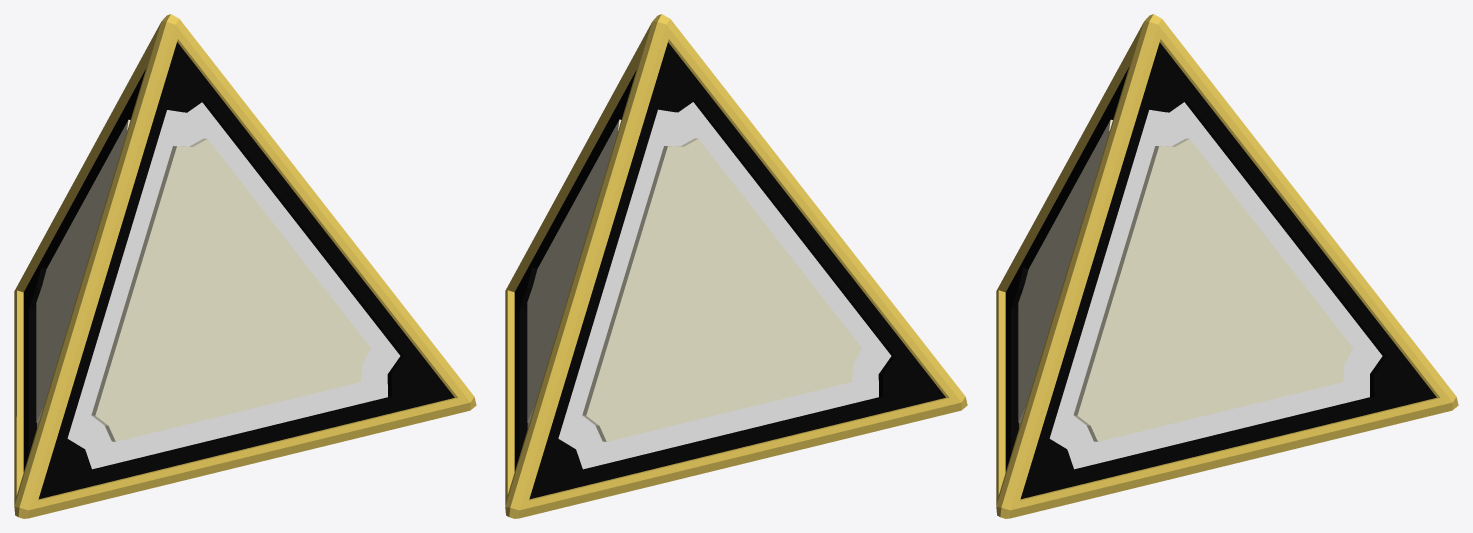
Rendered from D4_DefaultModel.fbx.
The picture shows the model from 3 angles, left to right: view 1: azimuth 30°, elevation 25°; view 2: azimuth 150°, elevation 25°; view 3: azimuth 270°, elevation 25°; orthographic projection.
Visible parts, largest first — view 1: Die4Sided.001; view 2: Die4Sided.001; view 3: Die4Sided.001.
Part boxes in pixels (x1,y1,x2,y2): Die4Sided.001: [14, 14, 476, 518]; Die4Sided.001: [505, 14, 967, 518]; Die4Sided.001: [996, 14, 1458, 518].
Size of the model in its own units: 202 by 167 by 177.
